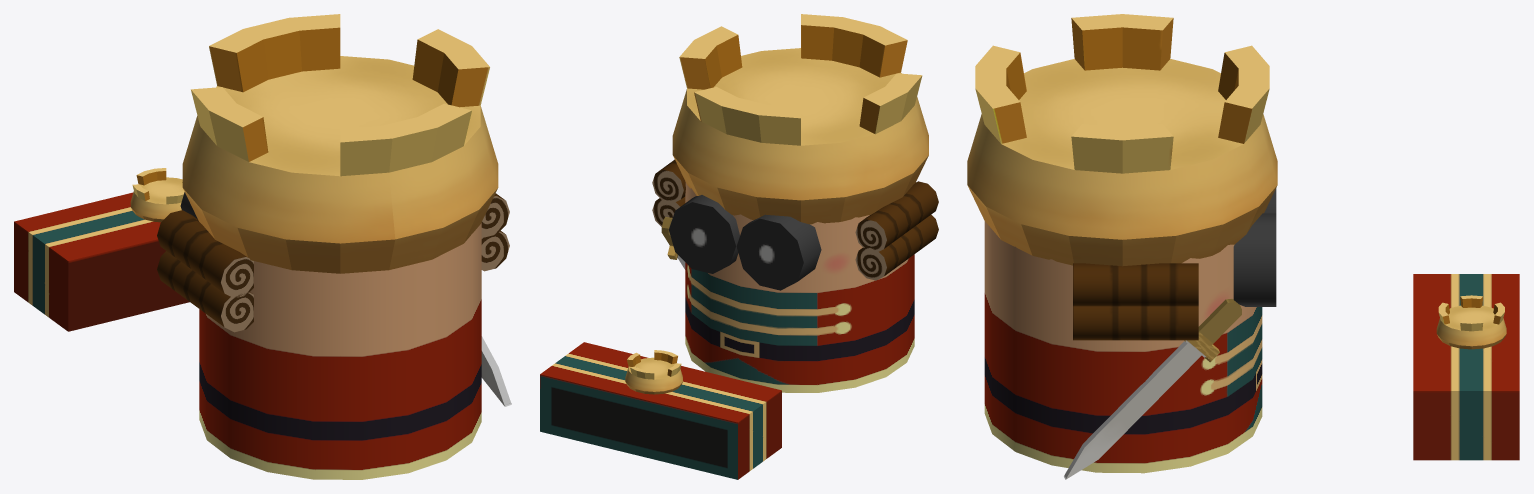
File: 胡桃夹子.fbx
The picture shows the model from 3 angles, left to right: view 1: azimuth 30°, elevation 25°; view 2: azimuth 150°, elevation 25°; view 3: azimuth 270°, elevation 25°; orthographic projection. The views are drawn at different scales.
Parts seen in each view (by area): view 1: Cylinder007, Box003; view 2: Cylinder007, Box003; view 3: Cylinder007, Box003.
Part boxes in pixels (<box>): Cylinder007: <box>157,14,511,479</box>; Box003: <box>14,168,189,331</box>; Cylinder007: <box>652,14,938,392</box>; Box003: <box>540,342,781,479</box>; Cylinder007: <box>967,14,1277,479</box>; Box003: <box>1413,274,1519,460</box>.
Size of the model in its own units: 68.65 by 79.88 by 115.
